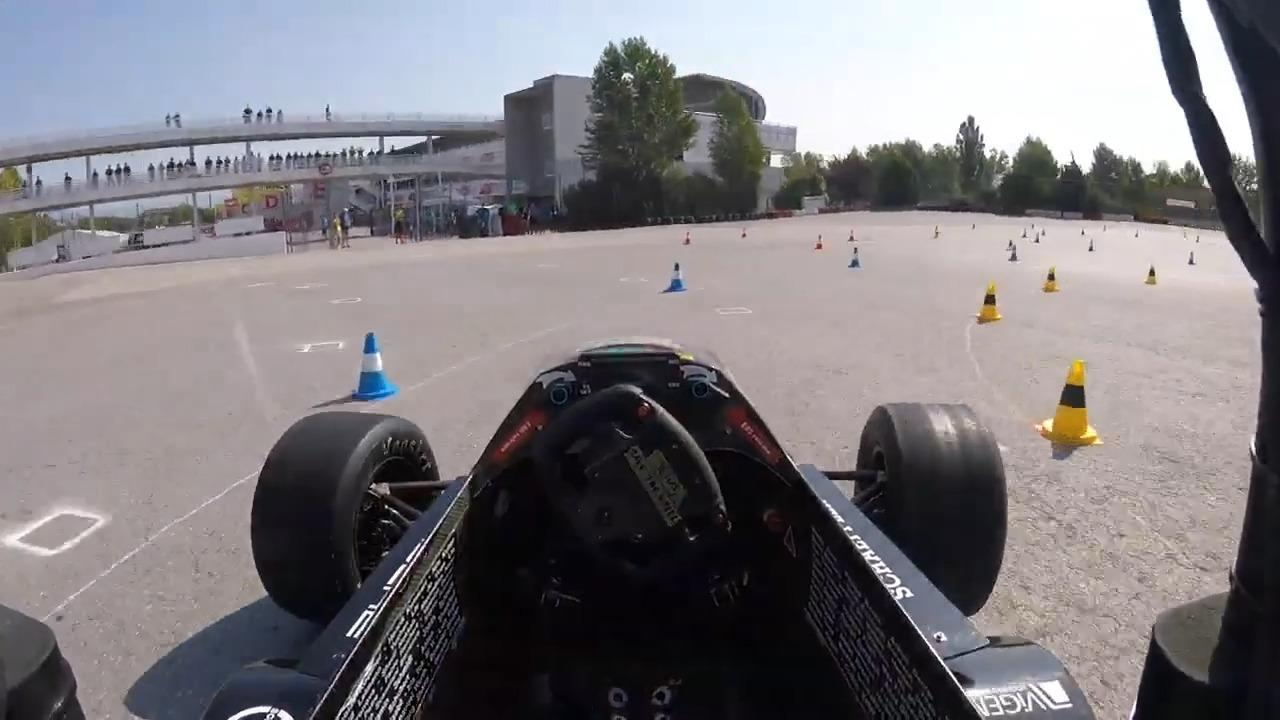blue_cone: (344, 332, 399, 402), (665, 260, 686, 293), (846, 247, 863, 270)
orange_cone: (812, 232, 825, 252), (683, 231, 693, 247)
yellow_cone: (1033, 357, 1105, 448), (975, 283, 1003, 324), (1043, 266, 1060, 294), (1143, 262, 1159, 286)
